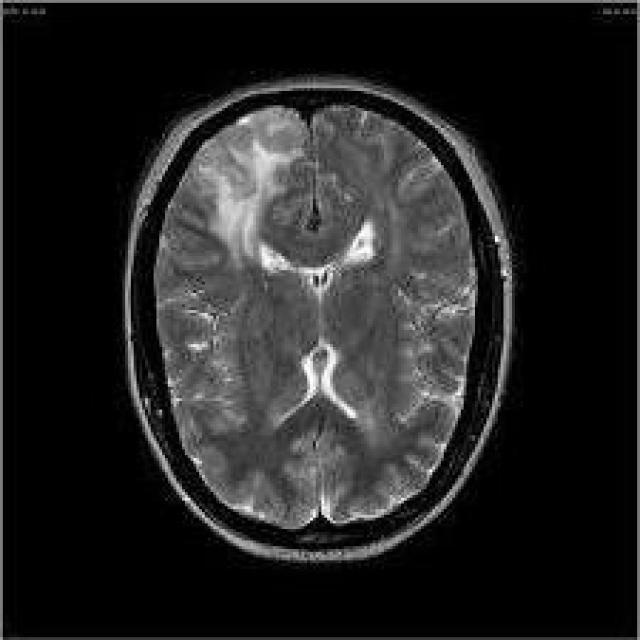notumor: (125, 80, 515, 560)
